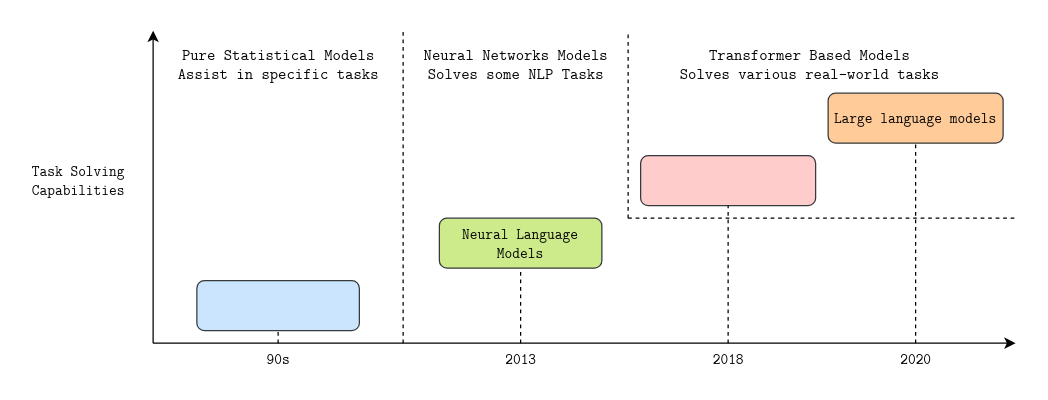
Some shapes in this 1048 by 400 pixel diagram are drawn without their labels. Each missing label, with the centre of its shape:
Pre-trained language models: pixel 727 180
Statistical language models: pixel 277 305
